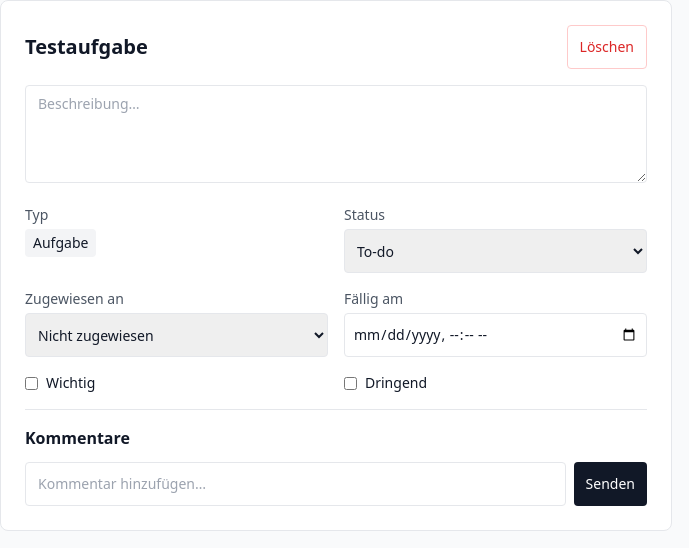
it: ItemDetail › keeps typed title characters in the input instead of resetting after each keystroke
Type " zwei" into the 1st field showing "Testaufgabe" at (290, 47), box [25,28,555,66]
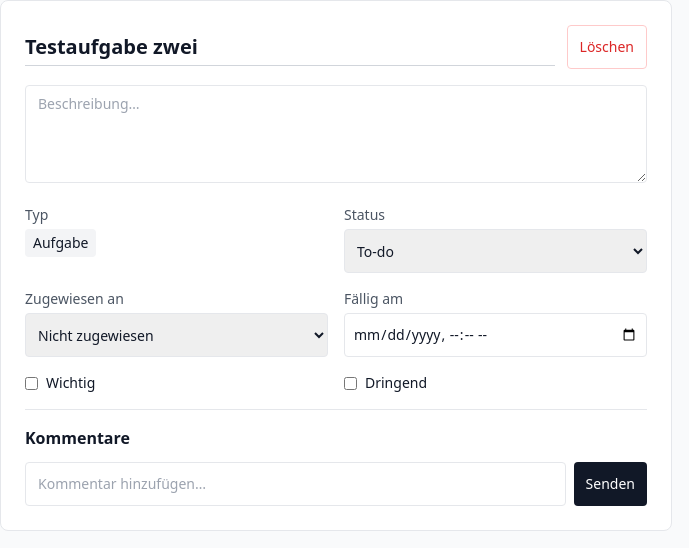
Expected: the 1st field showing "Testaufgabe" holds "Testaufgabe zwei", [25,28,555,66]
